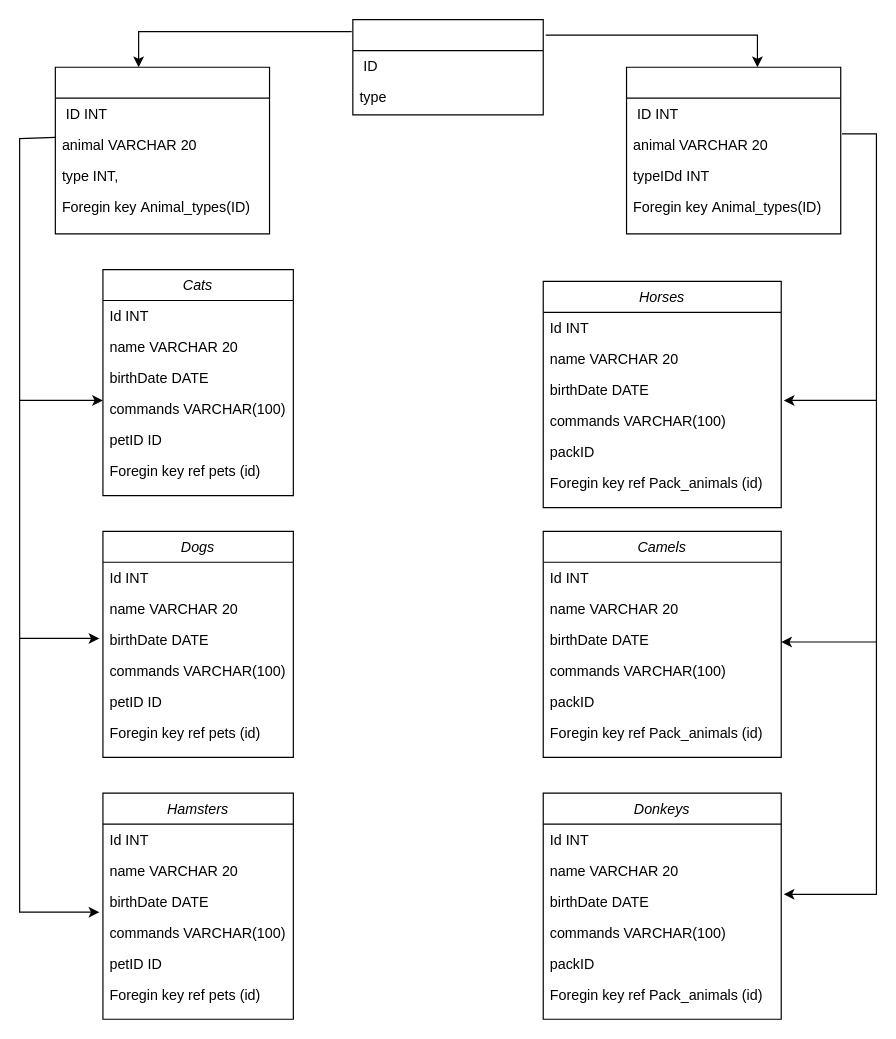
The diagram is 896 pixels wide and 1039 high, and some of its shapes have lost their labels. Each missing label, with the box of its shape:
Animal_types: (352, 18, 543, 115)
Pack_animals: (625, 66, 841, 234)
Pets: (54, 66, 270, 234)
